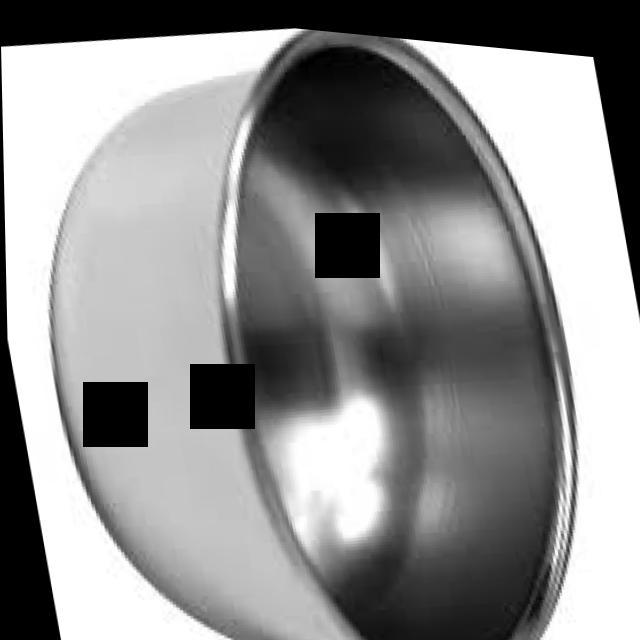Sponge Bowl: (0, 0, 637, 640)
